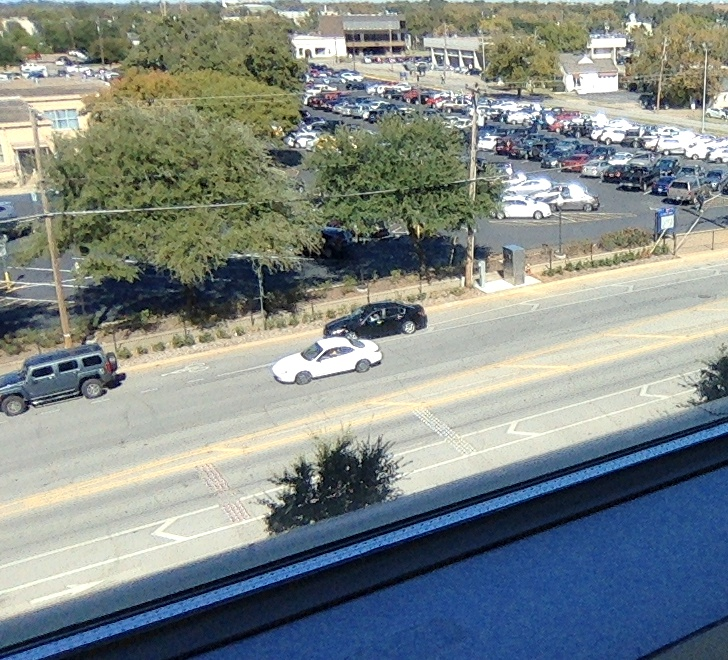car: (300, 300, 428, 360)
